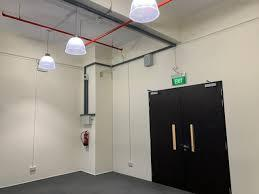exit: (150, 80, 232, 193)
lit_exit_sign: (173, 75, 186, 86)
